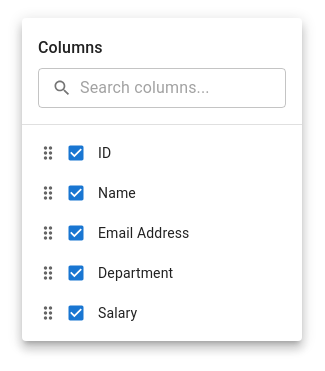
ColumnManagerPanel - Search › filters columns by headerName (case-insensitive)
This screenshot has width=325, height=371.
Type "email" into the field with placeholder "Search columns...".
click(183, 88); type("email")  # box left=80, top=68, right=286, bottom=108
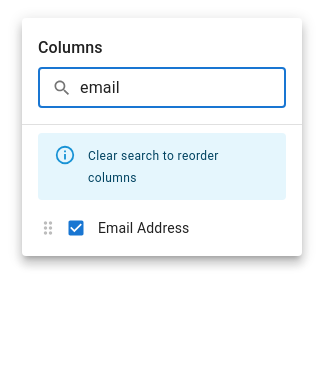
Result: the element with test id "column-item-id" is gone
Result: the element with test id "column-item-name" is gone
Result: the element with test id "column-item-department" is gone
